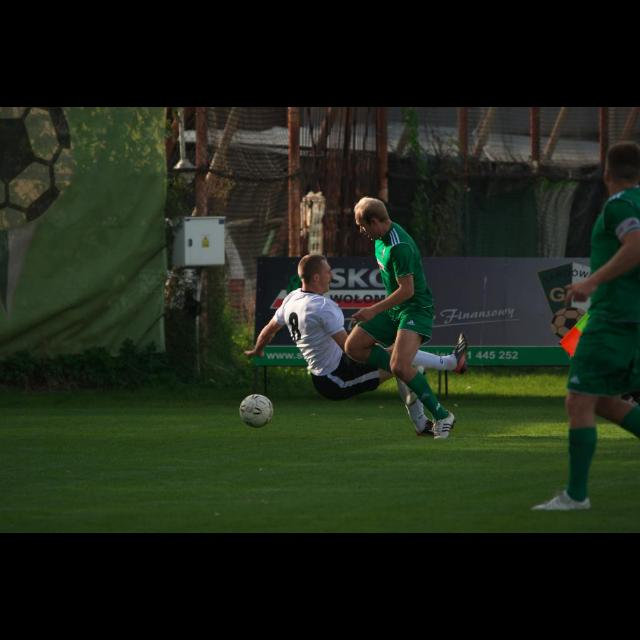Football: (238, 392, 272, 426)
